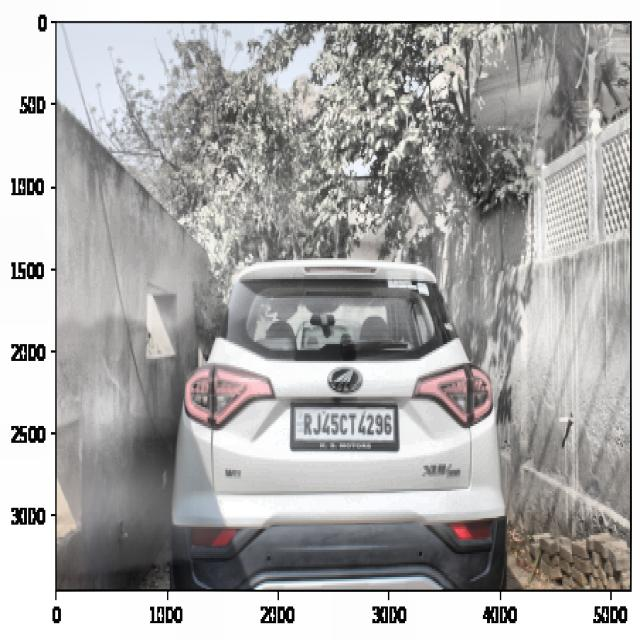license_plate: (301, 405, 399, 450)
